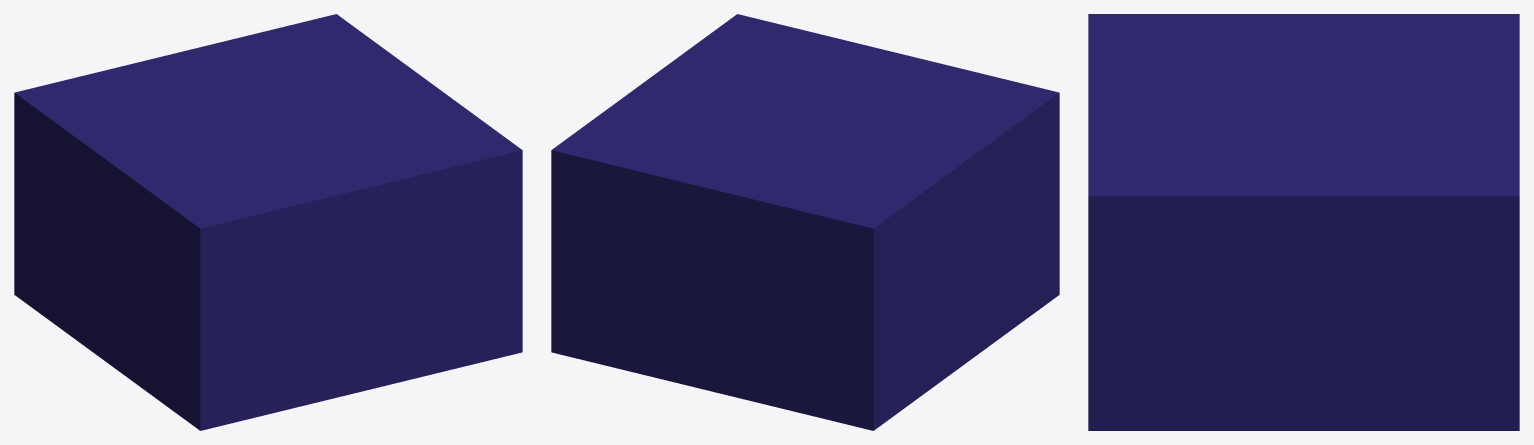
File: Agua Petroleo.fbx
The picture shows the model from 3 angles, left to right: view 1: azimuth 30°, elevation 25°; view 2: azimuth 150°, elevation 25°; view 3: azimuth 270°, elevation 25°; orthographic projection. The views are drawn at different scales.
Parts seen in each view (by area): view 1: Agua Petroleo; view 2: Agua Petroleo; view 3: Agua Petroleo.
Part boxes in pixels (x1=…): Agua Petroleo: x1=14, y1=14, x2=522, y2=430; Agua Petroleo: x1=551, y1=14, x2=1059, y2=430; Agua Petroleo: x1=1088, y1=14, x2=1519, y2=430.
Size of the model in its own units: 100 by 60 by 100.
